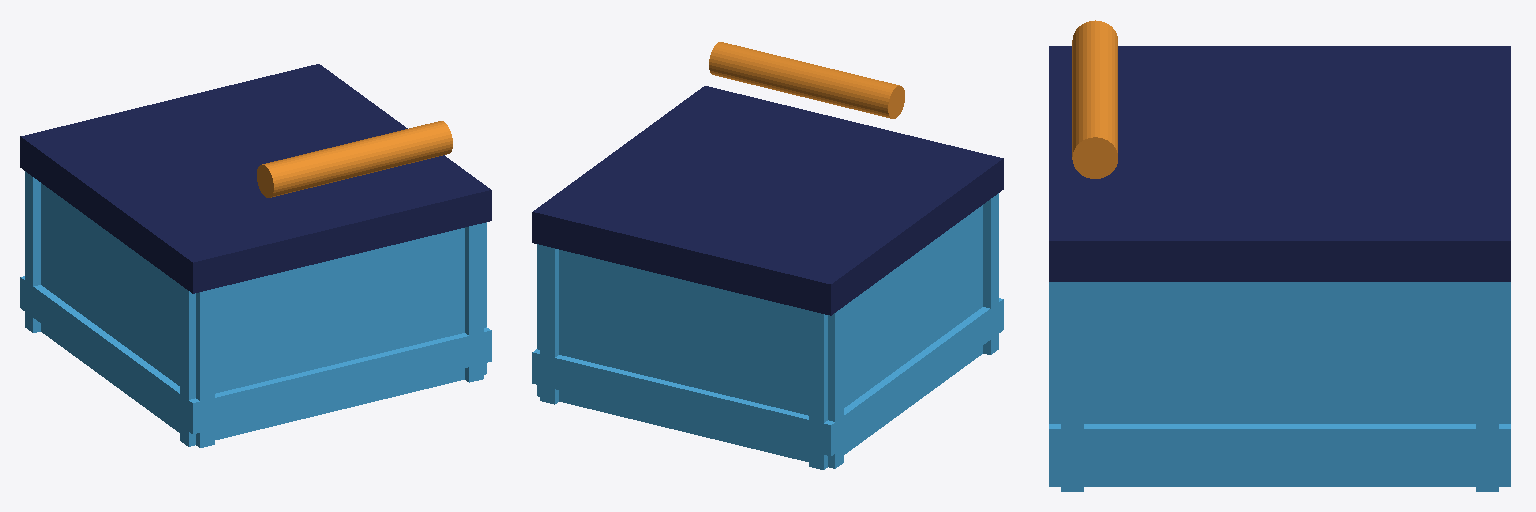
robot.urdf — bowl.urdf:
<?xml version="0.0" ?>
<robot name="bowl.urdf">

  <material name="yellow">
    <color rgba="1 1 0.4 1"/>
  </material>
  <material name="red">
    <color rgba="1 0 0 1"/>
  </material>
  <material name="blue">
    <color rgba=".17 .20 .38 1"/>
  </material>
  <material name="teal">
    <color rgba="0 .5 .5 1"/>
  </material>
  <material name="orange">
    <color rgba=".93 .6 .23 1"/>
  </material>

  <link name="world"/>

  <link name="base">
    <inertial>
      <origin rpy="0 0 0" xyz="0.0 0.0 0.0"/>
       <mass value=".1"/>
       <inertia ixx="1" ixy="0" ixz="0" iyy="1" iyz="0" izz="1"/>
    </inertial>
    <!-- <visual>
      <origin rpy="0 0 0" xyz="0 0 0"/>
      <geometry>
        <box size="1 1 0.5"/> -->
        <!-- <mesh filename="roboverse/envs/assets/objects/box/box.dae" scale="[phone redacted]"/> -->
      <!-- </geometry>
      <material name="teal"/>
    </visual> -->
    <visual>
      <!-- bottom -->
      <origin rpy="0 0 0" xyz="0 0 -0.15"/>
      <geometry>
        <box size="1 1 .1"/>
      </geometry>
    </visual>
    <visual>
      <!-- right -->
      <origin rpy="0 0 0" xyz="0 -.45 0"/>
      <geometry>
        <box size="1 .05 .5"/>
      </geometry>
    </visual>
    <visual>
      <!-- left -->
      <origin rpy="0 0 0" xyz="0 .45 0"/>
      <geometry>
        <box size="1 .05 .5"/>
      </geometry>
    </visual>
    <visual>
      <!-- front -->
      <origin rpy="0 0 0" xyz=".45 0 0"/>
      <geometry>
        <box size=".05 1 .5"/>
      </geometry>
    </visual>
    <visual>
      <!-- back -->
      <origin rpy="0 0 0" xyz="-.45 0 0"/>
      <geometry>
        <box size=".05 1 .5"/>
      </geometry>
    </visual>
    <collision>
      <origin rpy="0 0 0" xyz="0 0 -.3"/>
      <geometry>
        <box size="1.2 1.2 .1"/>
      </geometry>
    </collision>
    <collision>
      <!-- right -->
      <origin rpy="0 0 0" xyz="0 -.45 0"/>
      <geometry>
        <box size="1 .05 .5"/>
      </geometry>
    </collision>
    <collision>
      <!-- left -->
      <origin rpy="0 0 0" xyz="0 .45 0"/>
      <geometry>
        <box size="1 .05 .5"/>
      </geometry>
    </collision>
    <collision>
      <!-- front -->
      <origin rpy="0 0 0" xyz=".45 0 0"/>
      <geometry>
        <box size=".05 1 .5"/>
      </geometry>
    </collision>
    <collision>
      <!-- back -->
      <origin rpy="0 0 0" xyz="-.45 0 0"/>
      <geometry>
        <box size=".05 1 .5"/>
      </geometry>
    </collision>
  </link>

  <link name="lid">
    <lateral_friction value="1.0"/>
    <rolling_friction value="0.0"/>
    <contact_cfm value="0.0"/>
    <contact_erp value="1.0"/>
    <inertial>
      <origin rpy="0 0 0" xyz="-0.5 -0.5 0"/>
      <mass value=".25"/>
      <inertia ixx="0.1" ixy="0" ixz="0" iyy="0.1" iyz="0" izz="0.1"/>
    </inertial>
    <visual>
      <origin rpy="0 0 0" xyz="-0.5 -0.5 0"/>
      <geometry>
        <box size="1 1 .1"/>
      </geometry>
      <material name="blue"/>
    </visual>
    <collision>
      <origin rpy="0 0 0" xyz="-0.5 -0.5 0"/>
      <geometry>
        <box size="1 1 .1"/>
      </geometry>
    </collision>
  </link>

  <link name="handle_r">
    <!-- <lateral_friction value="1.0"/>
    <rolling_friction value="0.0"/>
    <contact_cfm value="0.0"/>
    <contact_erp value="1.0"/> -->
    <!-- <contact>
      <lateral_friction value="100.0"/>
      <spinning_friction value="0.0"/>
    </contact> -->
    <contact>
      <rolling_friction value="1000.0"/>
      <lateral_friction value="1000.0"/> 
      <!-- lateral_friction was key to not making the gripper slide on the handle--> 
      <spinning_friction value="1000.0"/>
    </contact>
    <inertial>
      <origin rpy="0 1.57 0" xyz="0.4 -0.9 0.3"/>
      <mass value=".1"/>
      <inertia ixx="1" ixy="0" ixz="0" iyy="1" iyz="0" izz="1"/>
    </inertial>
    <visual>
      <origin rpy="0 1.57 0" xyz="0.4 -0.9 0.3"/>
      <geometry>
        <!-- <box size="0.5 0.1 .2"/> -->
        <cylinder radius="0.05" length="0.6"/>
      </geometry>
      <!-- <origin rpy="" xyz=""/>
      <geometry>
        dd
      </geometry> -->
      <material name="orange"/>
    </visual>
    <collision>
      <origin rpy="0 1.57 0" xyz="0.4 -0.9 0.3"/>
      <geometry>
        <!-- <box size="0.5 0.1 .2"/> -->
        <cylinder radius="0.05" length="0.6"/>
      </geometry>
      <!-- <contact_coefficients mu="-100.0" kp="0.01" kd="2"/> -->
    </collision>
  </link>

  <joint name="base_joint" type="fixed">
    <parent link="world"/>
    <child link="base"/>
  </joint>

  <joint name="lid_joint" type="revolute">
    <origin rpy="0 0 0" xyz="0.5 0.5 0.3"/>
    <parent link="base"/>
    <child link="lid"/>
    <axis rpy="0 0 0" xyz="1 0 0"/>
    <limit effort="100" lower="-3" upper="0" velocity="100"/>
    <dynamics damping="0.0" friction=".1"/>
  </joint>

  <joint name="handle_r_joint" type="fixed">
    <!-- <contact>
      <lateral_friction value="100.0"/>
      <spinning_friction value="0.0"/>
    </contact> -->
    <origin rpy="0 0 0" xyz="-0.8 0 -0.1"/>
    <parent link="lid"/>
    <child link="handle_r"/>
  </joint>

</robot>

--- Facts derived from the render (not from the file) ---
The picture shows the robot from 3 angles, left to right: view 1: azimuth 30°, elevation 25°; view 2: azimuth 150°, elevation 25°; view 3: azimuth 270°, elevation 25°; orthographic projection.
Model bowl.urdf with 4 links and 3 joints (1 revolute, 2 fixed), rooted at world, posed all joints at 0.
Visible links, largest first — view 1: base, lid, handle_r; view 2: base, lid, handle_r; view 3: lid, base, handle_r.
Link boxes in pixels (bbox=[...]): base: bbox=[20, 171, 491, 447]; lid: bbox=[20, 64, 491, 293]; handle_r: bbox=[257, 121, 452, 197]; base: bbox=[532, 193, 1003, 469]; lid: bbox=[532, 86, 1003, 315]; handle_r: bbox=[709, 42, 904, 118]; lid: bbox=[1049, 46, 1510, 281]; base: bbox=[1049, 282, 1510, 491]; handle_r: bbox=[1072, 20, 1117, 178].
Bounding box of the posed robot: 1 × 1 × 0.8002 m (x, y, z).
Geometry: primitives only (box / cylinder / sphere), no mesh files.